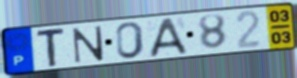0: (114, 21, 146, 60)
2: (235, 9, 263, 51)
8: (197, 13, 228, 52)
A: (147, 16, 190, 59)
N: (71, 24, 106, 65)
T: (35, 26, 67, 69)
